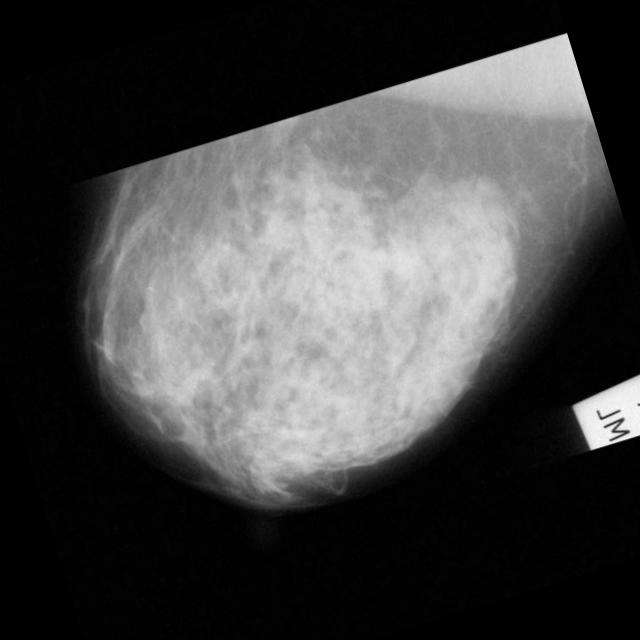ARCH: (266, 104, 301, 140)
